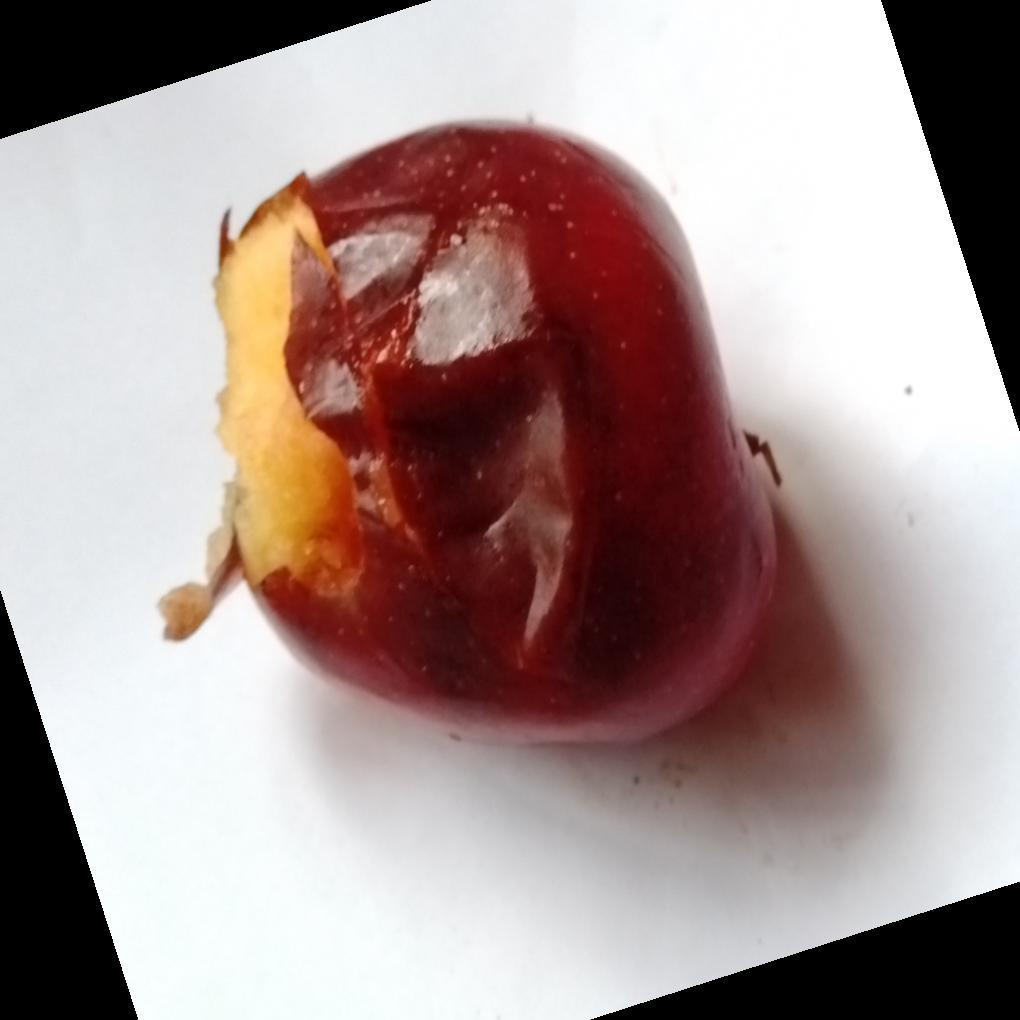FreshOrange: (171, 123, 783, 753)
